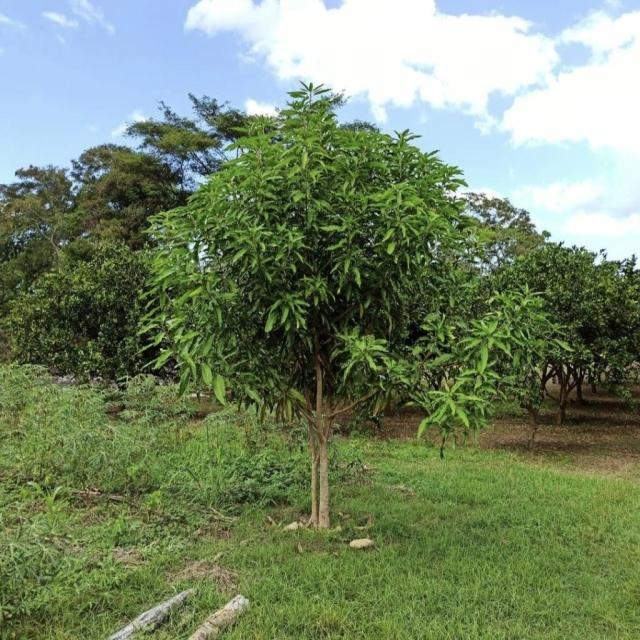Mango-Tree: (160, 108, 507, 518)
